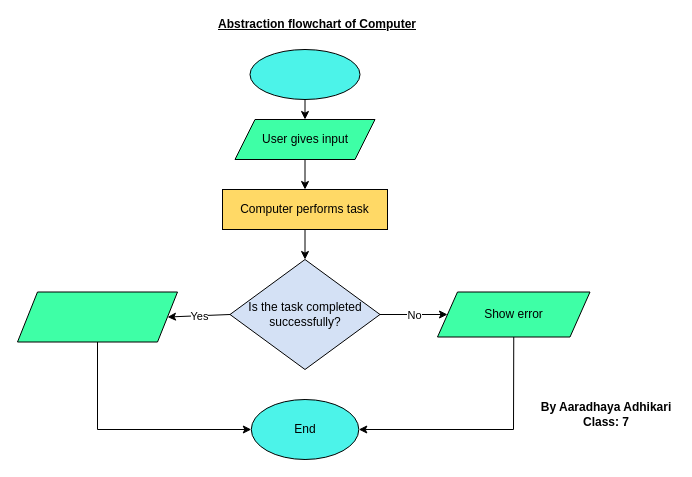
This 692x477 diagram has some shape labels left out. Each missing label, with the centre of its shape:
"Show result to user" belongs at (97,316).
"Start" belongs at (304,74).
